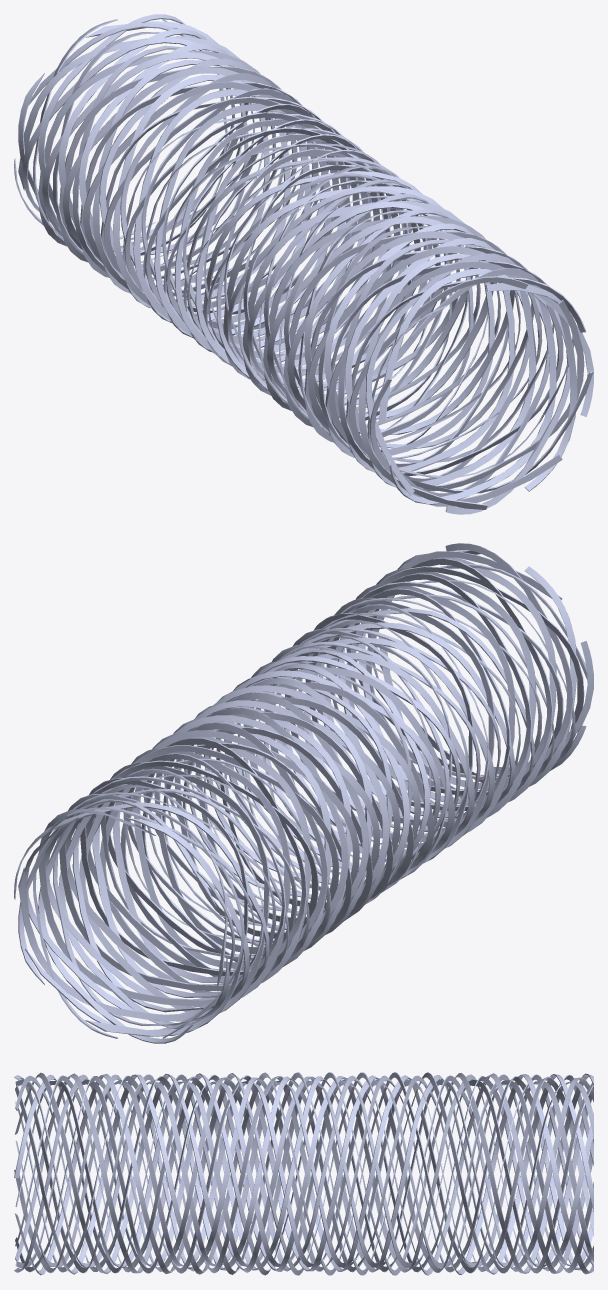
The model's file is optic_fiber.glb.
The picture shows the model from 3 angles, top to bottom: view 1: azimuth 30°, elevation 25°; view 2: azimuth 150°, elevation 25°; view 3: azimuth 270°, elevation 25°; orthographic projection. The views are drawn at different scales.
Parts seen in each view (by area): view 1: 0.005x0.001 flat 65 ppi; view 2: 0.005x0.001 flat 65 ppi; view 3: 0.005x0.001 flat 65 ppi.
Boxes of the visible parts, x1,y1,x2,y2 form: 0.005x0.001 flat 65 ppi: (14, 14, 593, 514); 0.005x0.001 flat 65 ppi: (14, 543, 593, 1043); 0.005x0.001 flat 65 ppi: (14, 1072, 593, 1275).
Bounding box in the file's own units: 0.00503 × 0.00503 × 0.0143.
